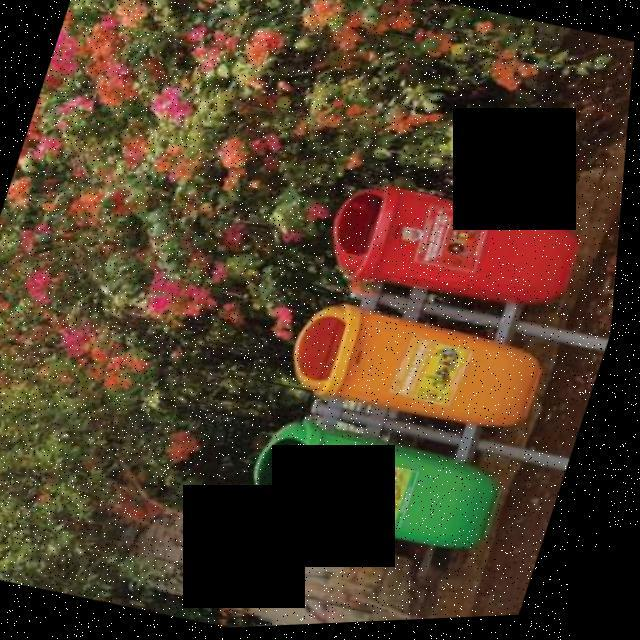bin: (236, 397, 536, 578), (309, 160, 608, 337), (280, 285, 581, 460)
